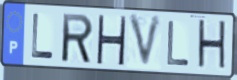H: (95, 13, 129, 67), (196, 18, 228, 74)
L: (30, 12, 56, 61), (165, 19, 191, 67)
R: (61, 12, 95, 66)
V: (127, 13, 164, 71)
